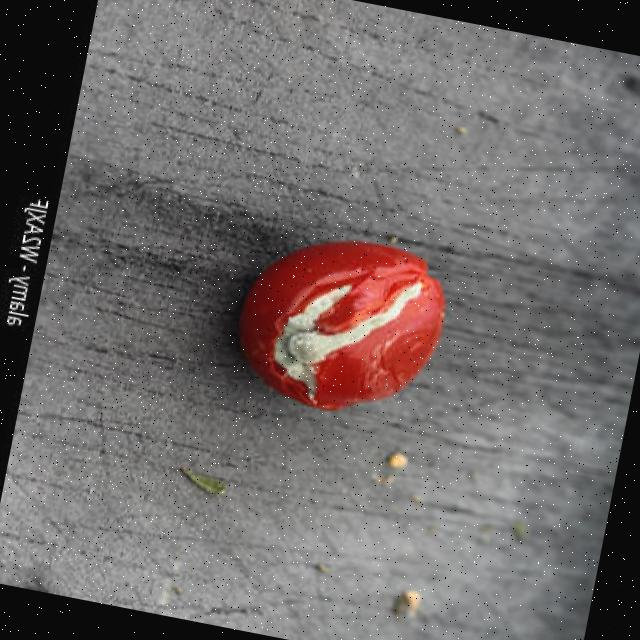Rotten: (220, 222, 458, 428)
